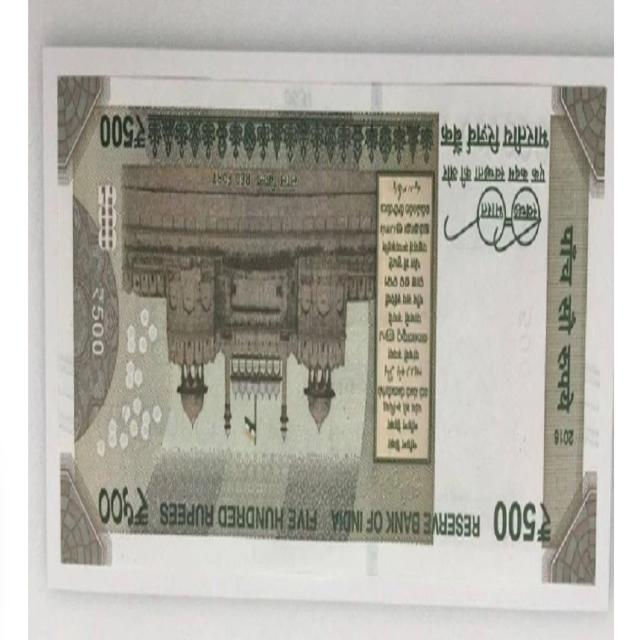500IndianRupees: (45, 48, 614, 606)
